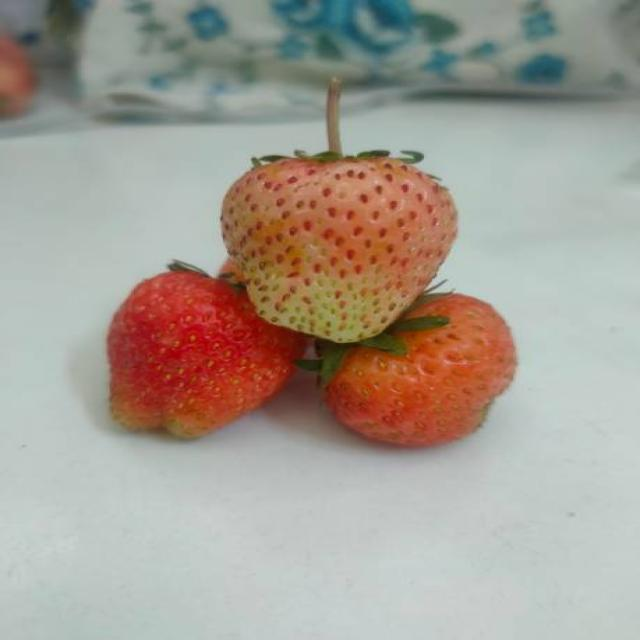Healthy Fruit: (217, 154, 457, 343), (107, 271, 307, 436), (325, 293, 514, 450)
